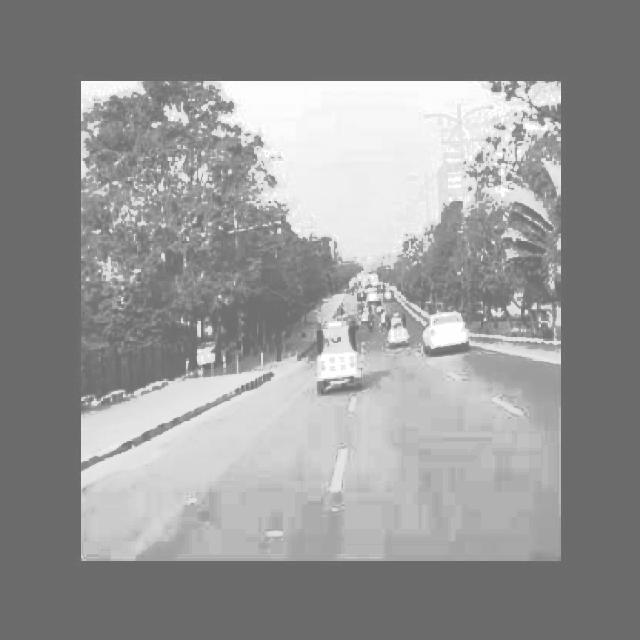Car: (417, 302, 473, 362)
